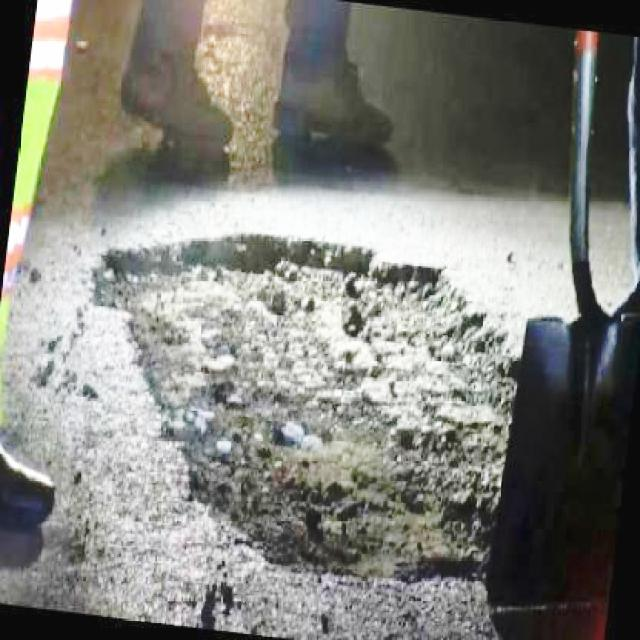pothole: (86, 229, 522, 591)
